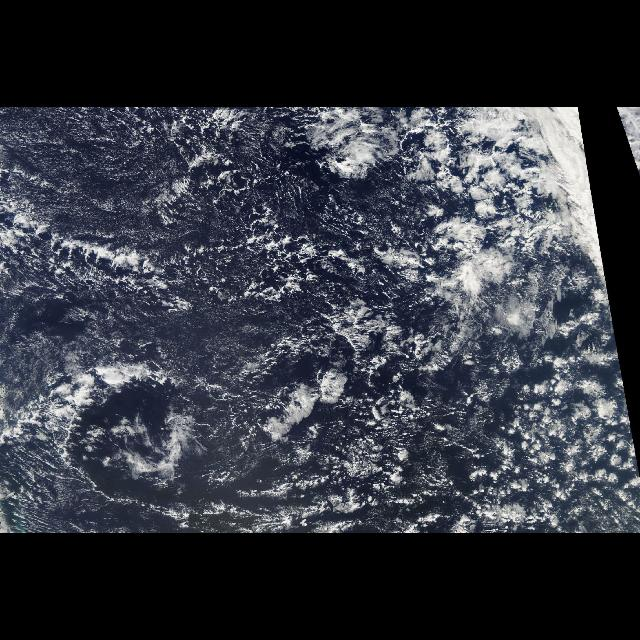Fish: (21, 231, 239, 299)
Flower: (416, 117, 588, 337), (494, 354, 638, 526)
Gravel: (4, 114, 412, 343)
Sugar: (6, 110, 198, 248)
